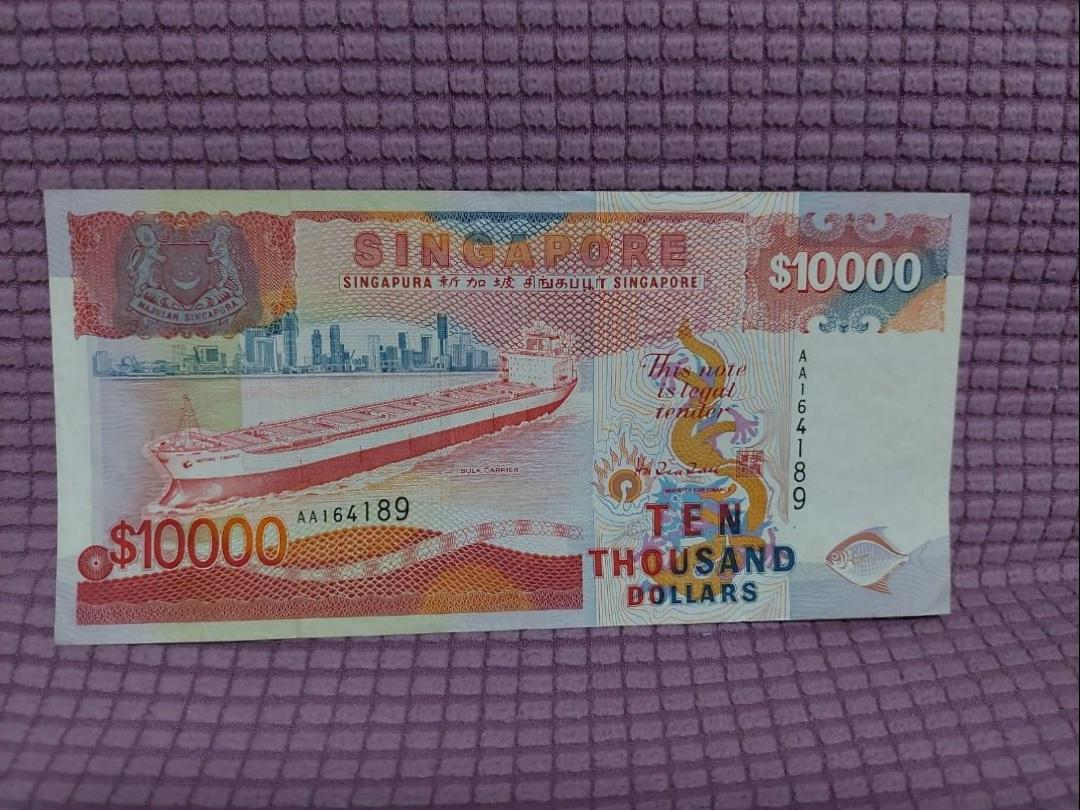10000SingaporeDollar: (62, 193, 951, 623)
